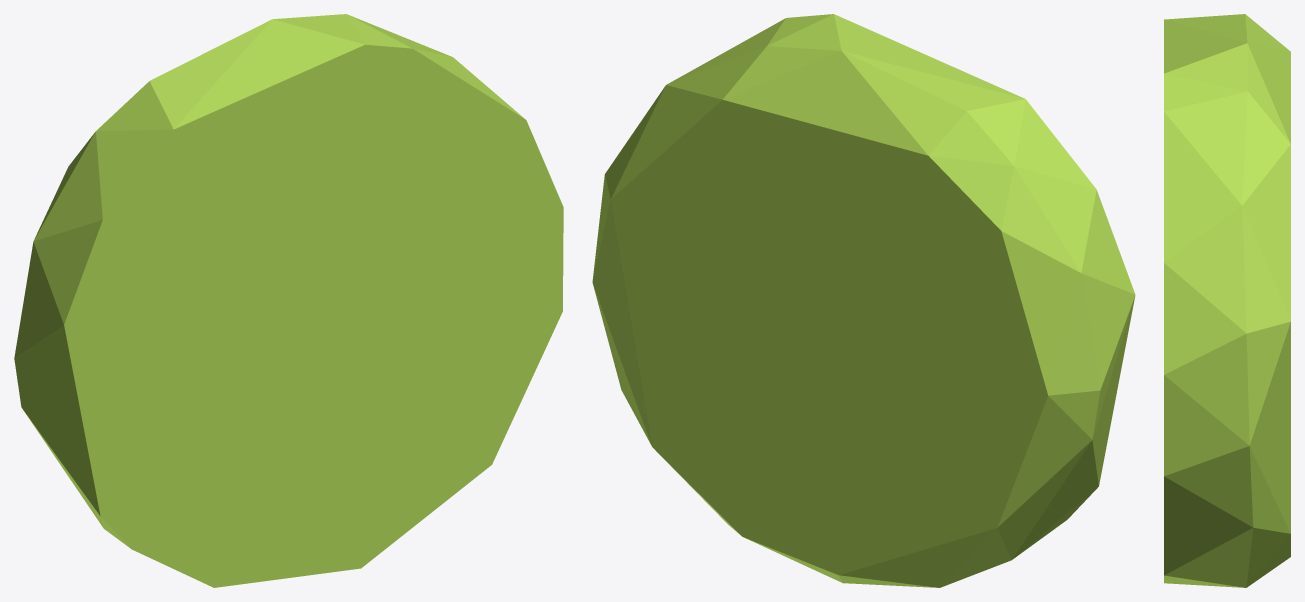
The model's file is ur3_link_3_coll_4.dae.
3 renders of one model, left to right at view 1: azimuth 30°, elevation 25°; view 2: azimuth 150°, elevation 25°; view 3: azimuth 270°, elevation 25°, orthographic. The views are drawn at different scales.
Parts seen in each view (by area): view 1: Node_000002223FC9BBD0; view 2: Node_000002223FC9BBD0; view 3: Node_000002223FC9BBD0.
Boxes of the visible parts, left/top/right/bottom form: Node_000002223FC9BBD0: left=14, top=14, right=563, bottom=587; Node_000002223FC9BBD0: left=592, top=14, right=1135, bottom=587; Node_000002223FC9BBD0: left=1164, top=14, right=1290, bottom=587.
Size of the model in its own units: 0.0626 by 0.0627 by 0.0139.
